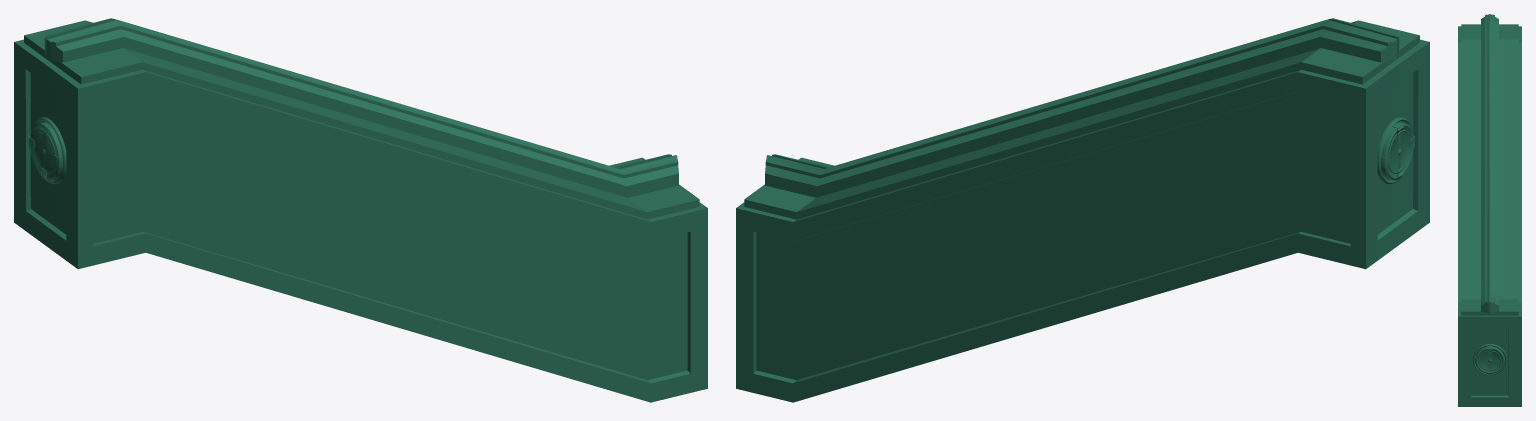
The model's file is SM_stairsdewall.fbx.
3 renders of one model, left to right at view 1: azimuth 30°, elevation 25°; view 2: azimuth 150°, elevation 25°; view 3: azimuth 270°, elevation 25°, orthographic. The views are drawn at different scales.
Visible parts, largest first — view 1: SM_stairsdewall; view 2: SM_stairsdewall; view 3: SM_stairsdewall.
Boxes of the visible parts, bbox=[...] form: SM_stairsdewall: bbox=[14, 18, 707, 402]; SM_stairsdewall: bbox=[736, 18, 1429, 402]; SM_stairsdewall: bbox=[1458, 14, 1521, 406].
Size of the model in its own units: 667 by 481 by 116.
